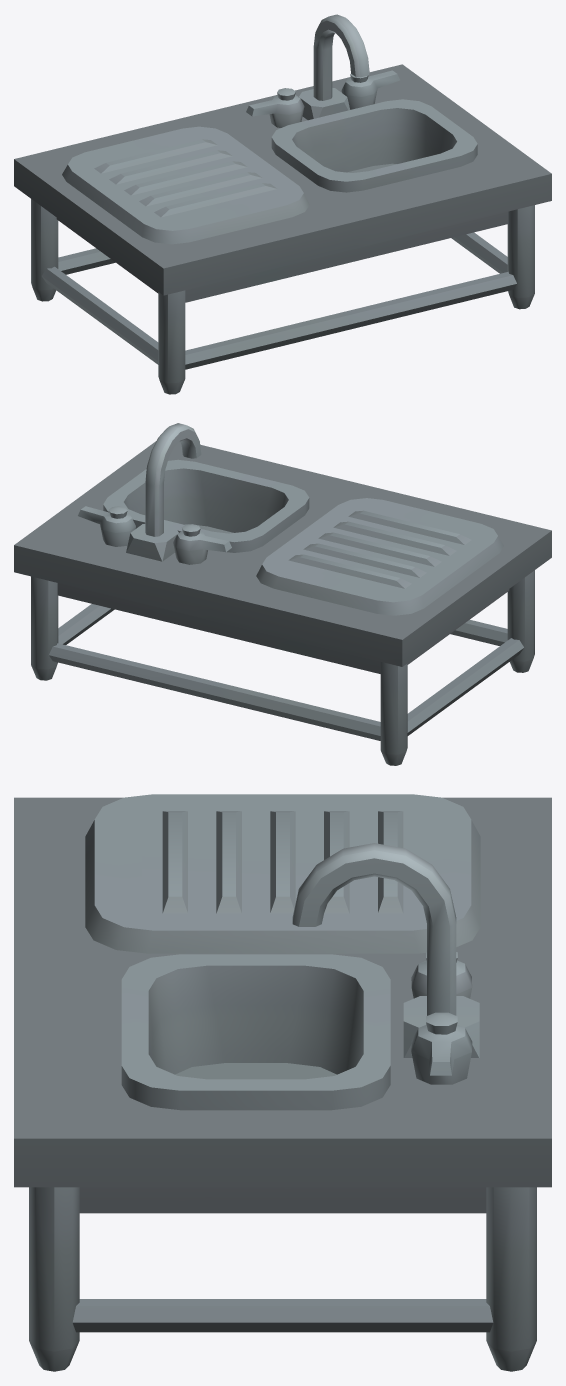
File: kkr.kitchentable_sink_large.glb
3 views of the same model, one above another, from view 1: azimuth 30°, elevation 25°; view 2: azimuth 150°, elevation 25°; view 3: azimuth 270°, elevation 25° (orthographic). The views are drawn at different scales.
Visible parts, largest first — view 1: kitchentable_sink_large; view 2: kitchentable_sink_large; view 3: kitchentable_sink_large.
Part boxes in pixels (x1=…): kitchentable_sink_large: x1=14, y1=14, x2=551, y2=394; kitchentable_sink_large: x1=14, y1=423, x2=551, y2=765; kitchentable_sink_large: x1=14, y1=794, x2=551, y2=1371.
Size of the model in its own units: 2.24 by 1.34 by 1.49.
Materials: 1 (1 with a texture image).
